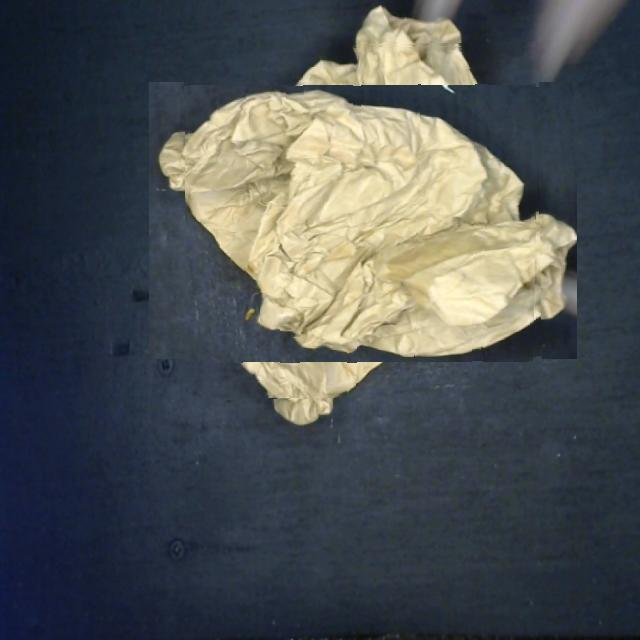biodegradable: (185, 42, 540, 398)
